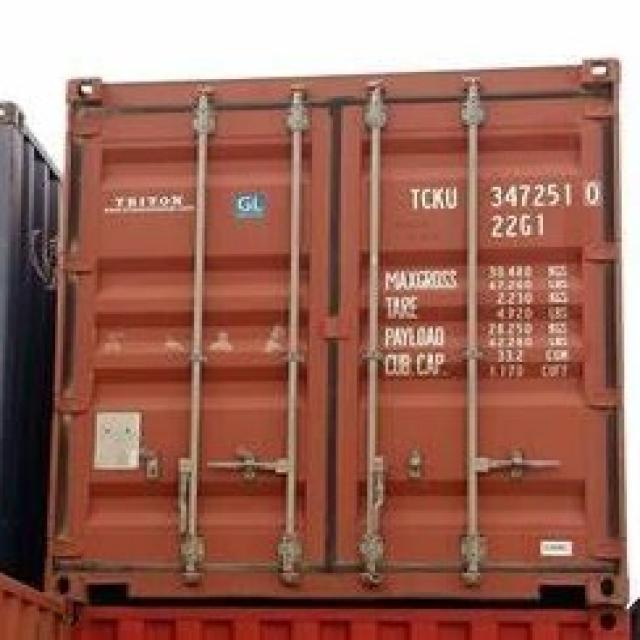ISO: (491, 213, 548, 238)
container_number: (406, 176, 596, 208)
